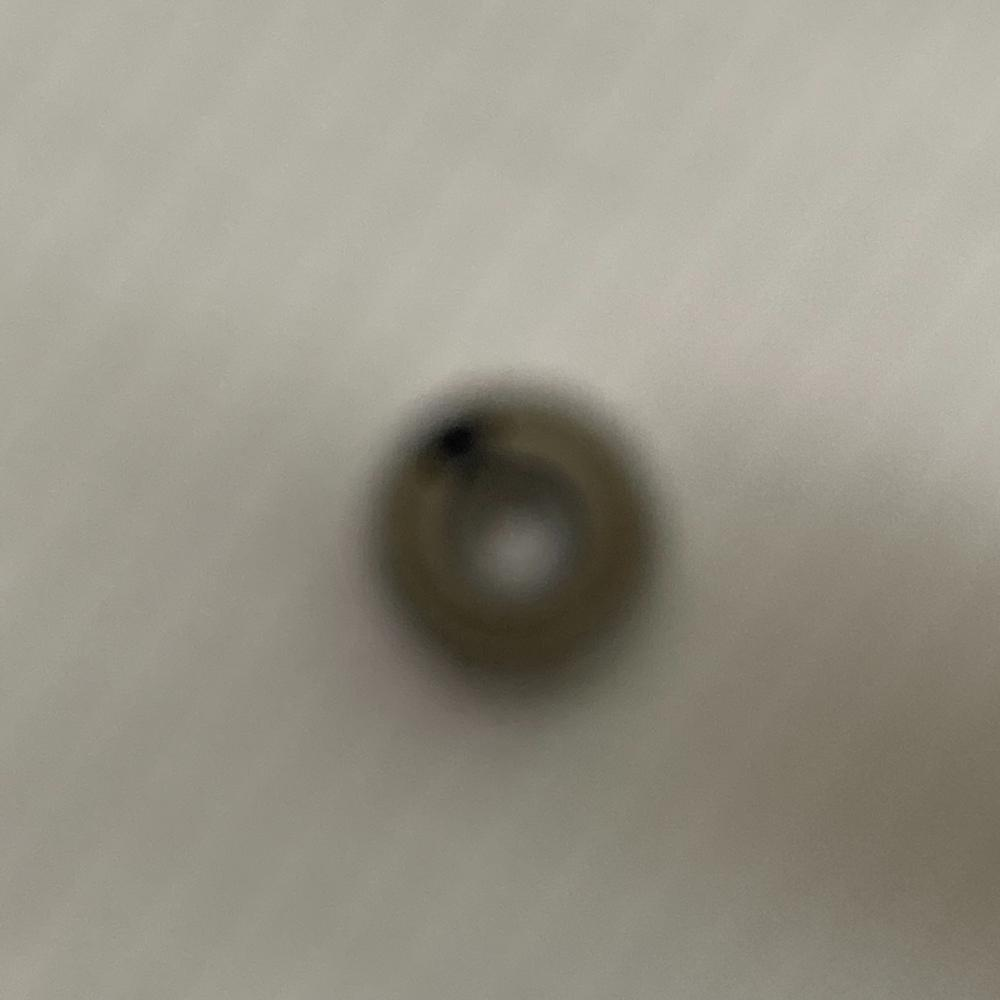ball_bearing_oil_stain: (373, 395, 654, 678)
